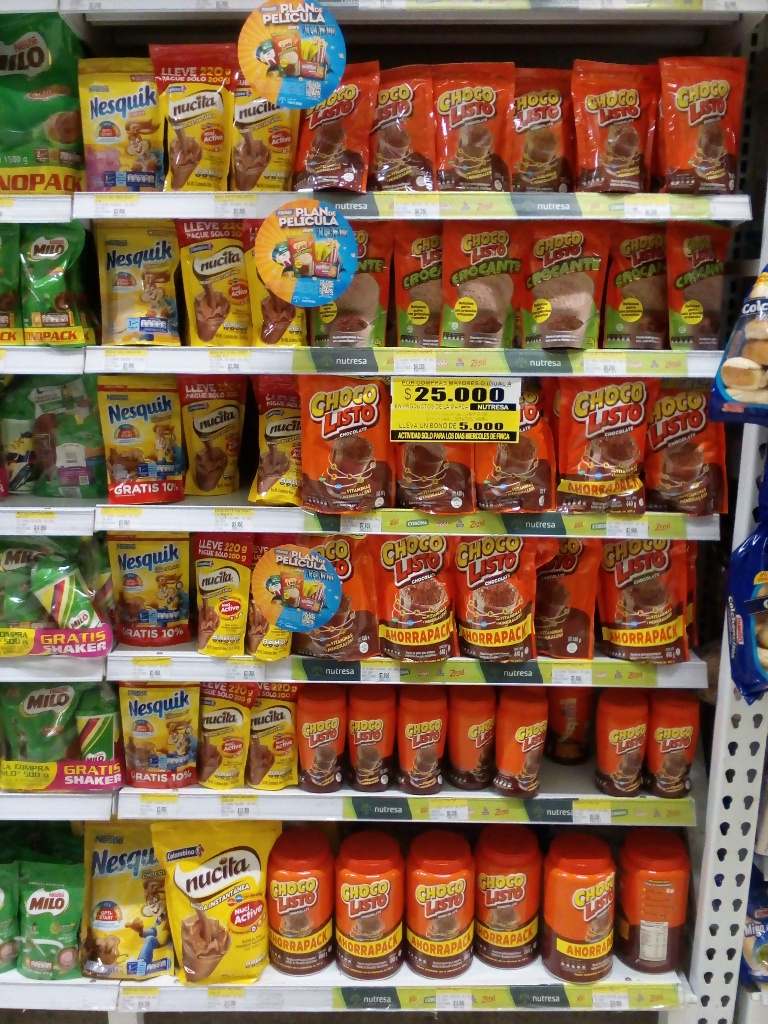COL0170102DYP25000: (667, 220, 736, 350)
COL0170103DYP44000: (597, 539, 698, 667)
COL0170103TRR00100: (262, 828, 335, 979)
COL0170103TRR30000: (294, 682, 346, 794)
COL0170203DYP50000: (0, 682, 80, 793)
COL0170305DYP20000: (77, 54, 165, 189)
COL0170306DYP20000: (96, 216, 180, 345)
